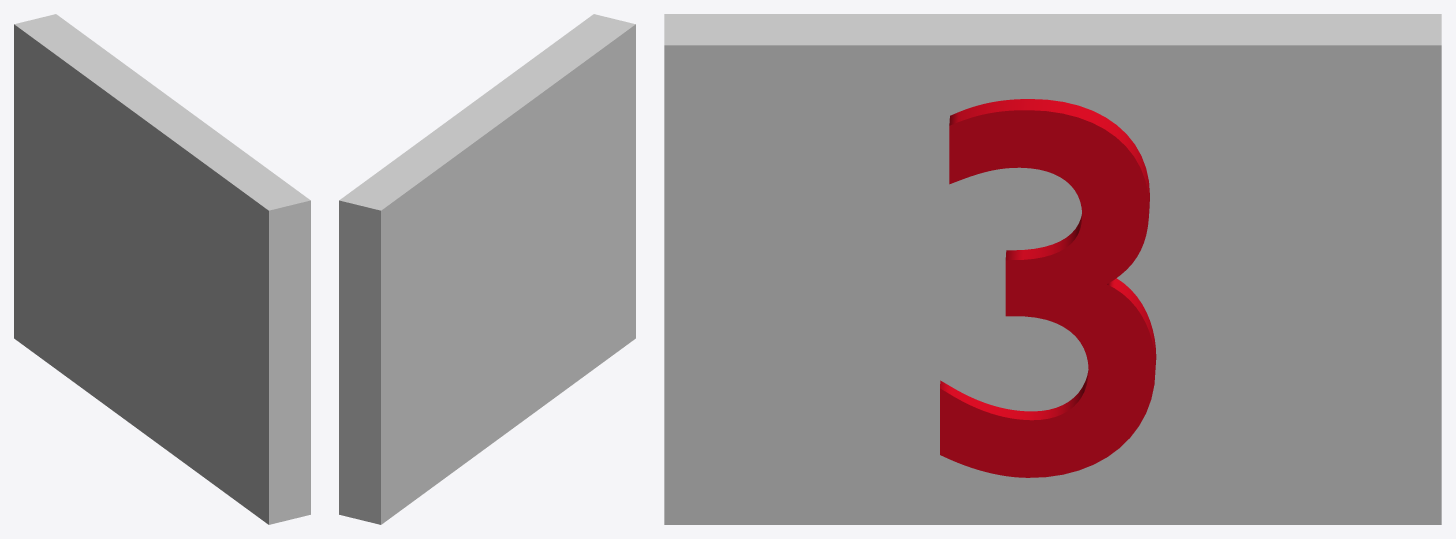
File: row 3.fbx
3 views of the same model, side by side, from view 1: azimuth 30°, elevation 25°; view 2: azimuth 150°, elevation 25°; view 3: azimuth 270°, elevation 25° (orthographic). The views are drawn at different scales.
Parts seen in each view (by area): view 1: Cube; view 2: Cube; view 3: Cube, Text.
Boxes of the visible parts, left/top/right/bottom form: Cube: left=14, top=14, right=310, bottom=524; Cube: left=339, top=14, right=635, bottom=524; Cube: left=664, top=14, right=1441, bottom=524; Text: left=940, top=99, right=1156, bottom=477.
Bounding box in the file's own units: 40.94 × 212 × 312.
